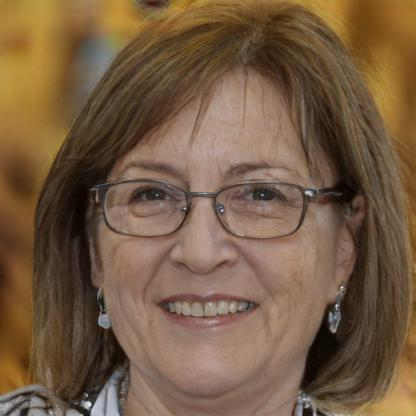glasses: (90, 176, 328, 244)
